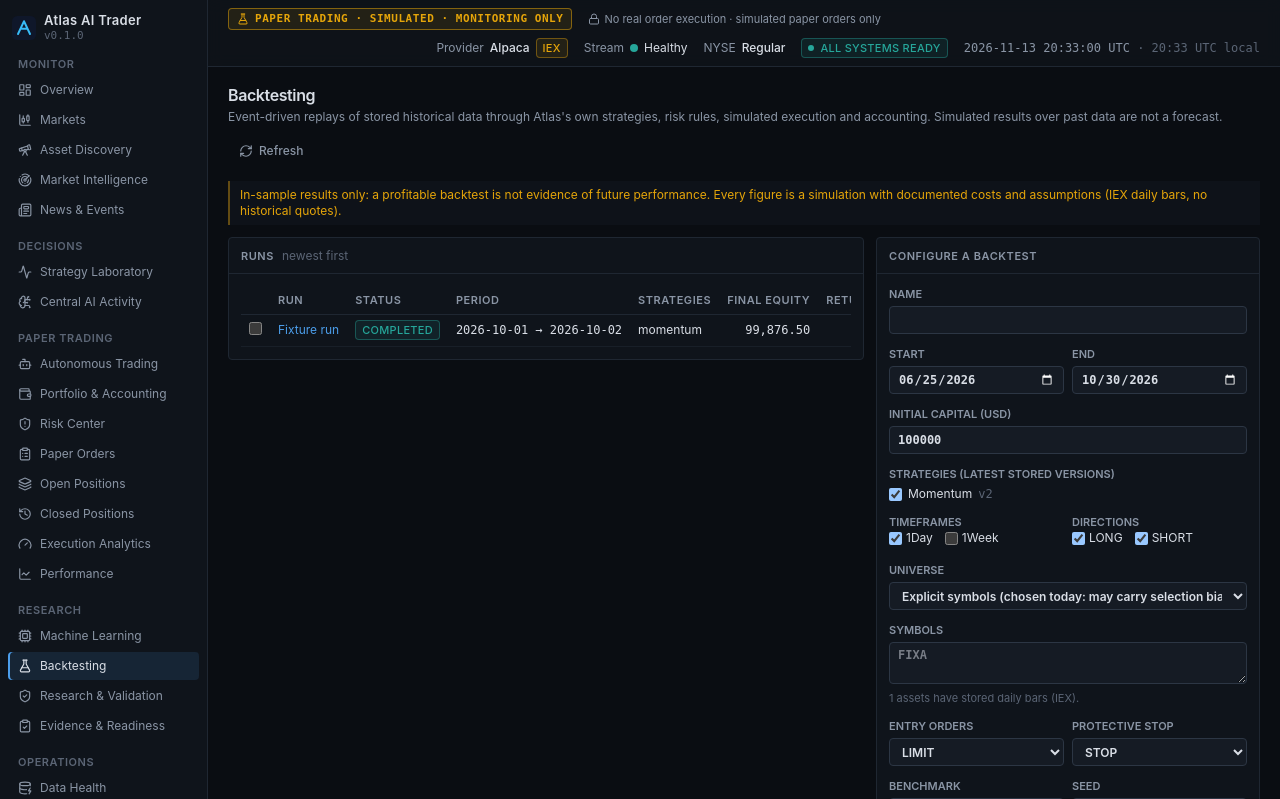
Test: backtesting page › lists runs with their stored results and submits a validated configuration
This screenshot has width=1280, height=799.
Expected: the link "Fixture run" is shown, [278,322,339,337]
Expected: the text "99,876.50" is shown, [719,314,818,346]
Type "fixa, FIXA spy" into the text box labelled "Symbols".
click(1068, 663); type("fixa, FIXA spy")  # box [889,642,1247,684]
(page scrolled)
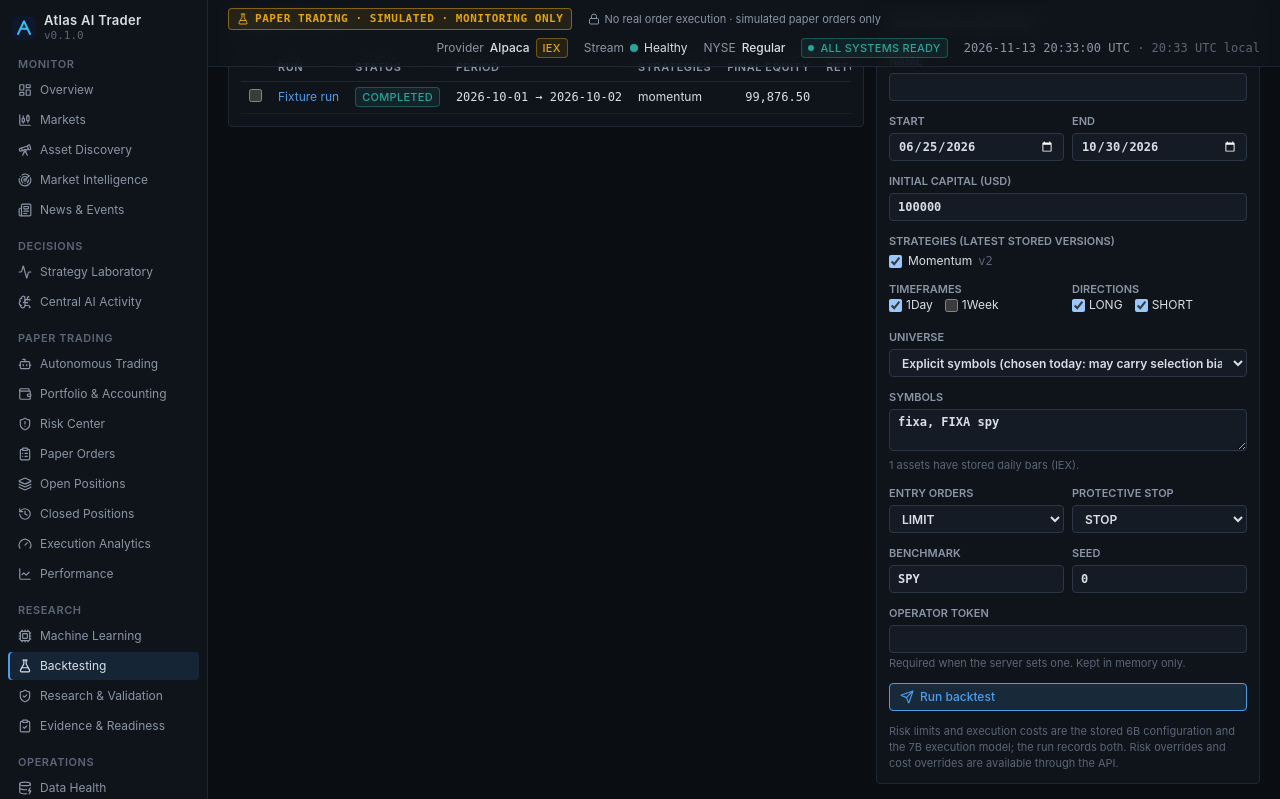
Type "op-secret" into the password field labelled "Operator token".
click(1068, 639); type("op-secret")  # box [889,625,1247,653]
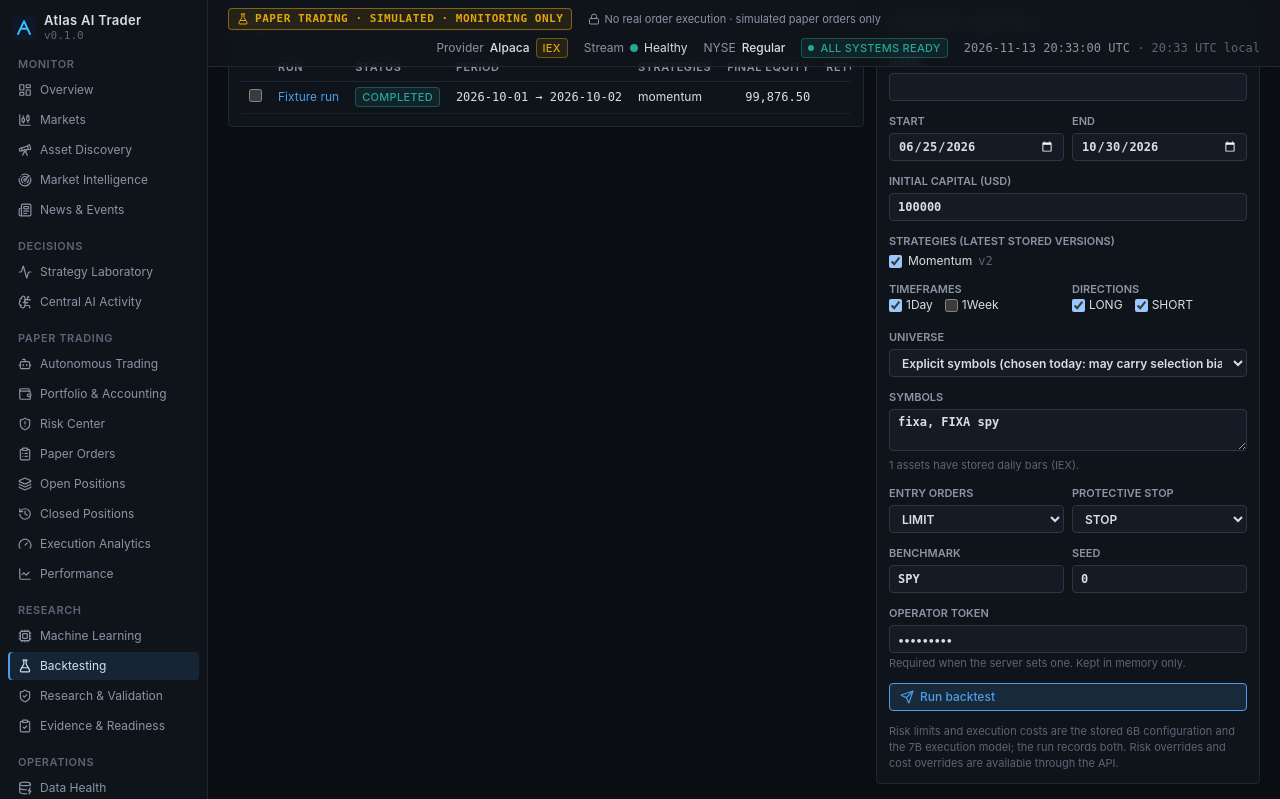
Now the button "Run backtest" is enabled
Click the button "Run backtest".
click(957, 696)  # box [889,683,1247,711]
(page scrolled)
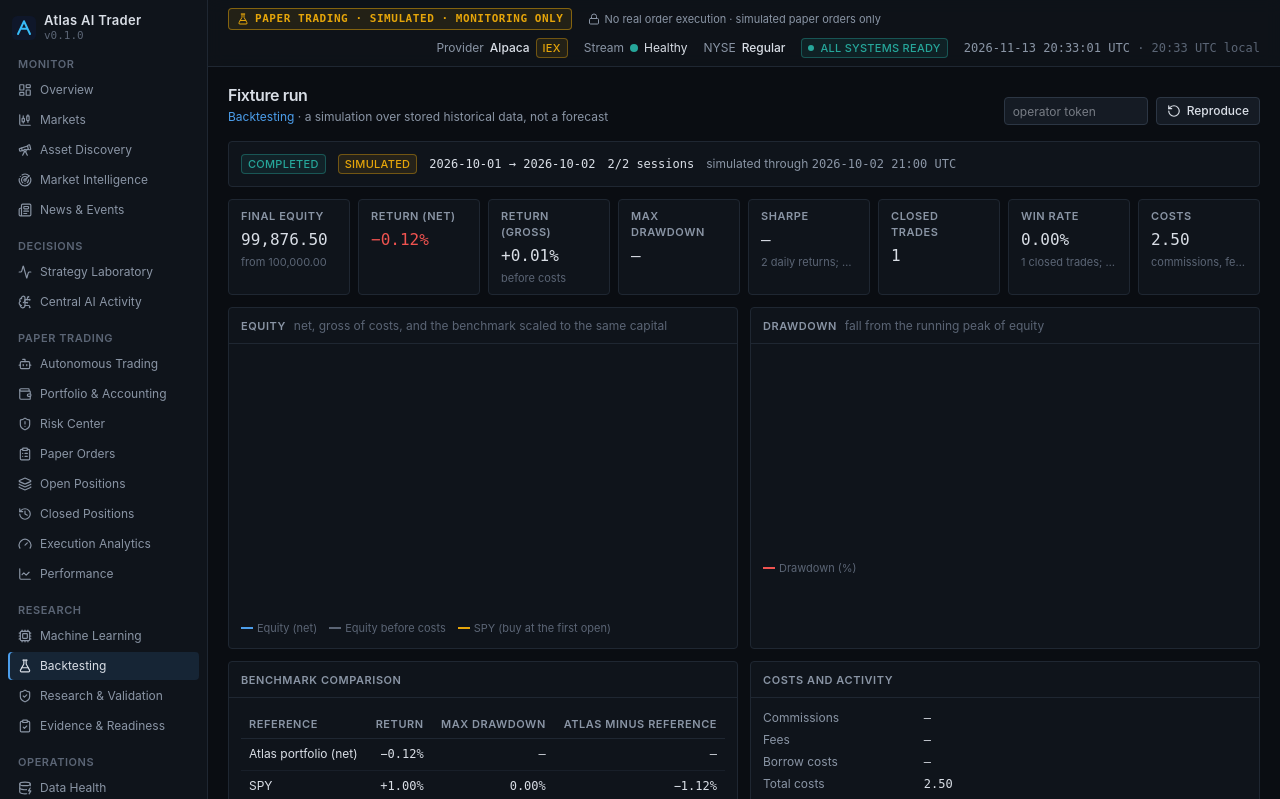
Now the heading "Fixture run" is shown, box [228,85,307,105]
